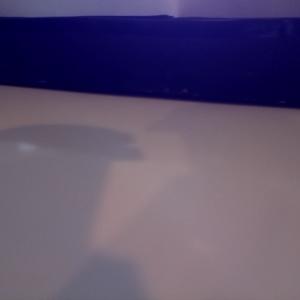zone: (1, 14, 300, 109)
